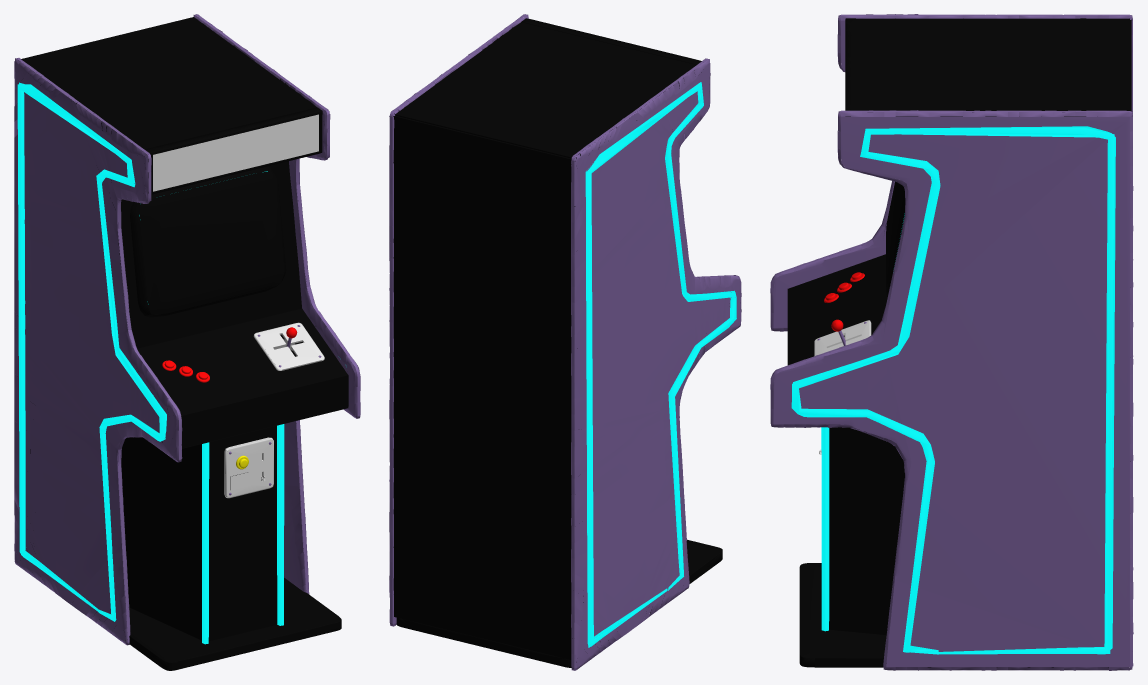
The model's file is Arcade-reduced-test.glb.
3 views of the same model, side by side, from view 1: azimuth 30°, elevation 25°; view 2: azimuth 150°, elevation 25°; view 3: azimuth 270°, elevation 25° (orthographic). The views are drawn at different scales.
Parts seen in each view (by area): view 1: object 4, object 16, object 13, object 9, object 10, object 22, Sweep_NURBS_1, object 3, object 21, object 15, object 17, object 5 (+5 smaller); view 2: object 14, object 4, object 16, Sweep_NURBS_1, object 3, object 15, object 18; view 3: object 3, object 16, Sweep_NURBS_NEON_0, object 8, object 22, object 4, object 15, object 32, object 13, object 18, object 11.
Boxes of the visible parts, x1,y1,x2,y2 form: object 4: (14, 58, 182, 645); object 16: (18, 17, 317, 156); object 13: (130, 166, 286, 317); object 9: (30, 437, 201, 640); object 10: (208, 425, 277, 641); object 22: (137, 308, 348, 415); Sweep_NURBS_1: (17, 82, 166, 621); object 3: (193, 14, 360, 594); object 21: (111, 161, 301, 348); object 15: (96, 577, 341, 670); object 17: (153, 114, 318, 191); object 5: (181, 375, 348, 448); object 14: (393, 115, 577, 659); object 4: (571, 58, 741, 670); object 16: (394, 22, 701, 158); Sweep_NURBS_1: (585, 82, 736, 647); object 3: (389, 14, 528, 626); object 15: (396, 539, 722, 667); object 18: (521, 18, 701, 64); object 3: (770, 110, 1133, 670); object 16: (856, 18, 1129, 116); Sweep_NURBS_NEON_0: (791, 126, 1115, 654); object 8: (829, 427, 904, 634); object 22: (788, 254, 887, 365); object 4: (770, 14, 1133, 569); object 15: (799, 563, 1108, 667); object 32: (821, 427, 829, 631); object 13: (886, 181, 905, 297); object 18: (845, 18, 856, 116); object 11: (814, 320, 871, 356).
Size of the model in its own units: 65.33 by 161 by 94.87.
